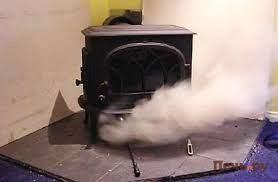smoke: (96, 36, 278, 152)
